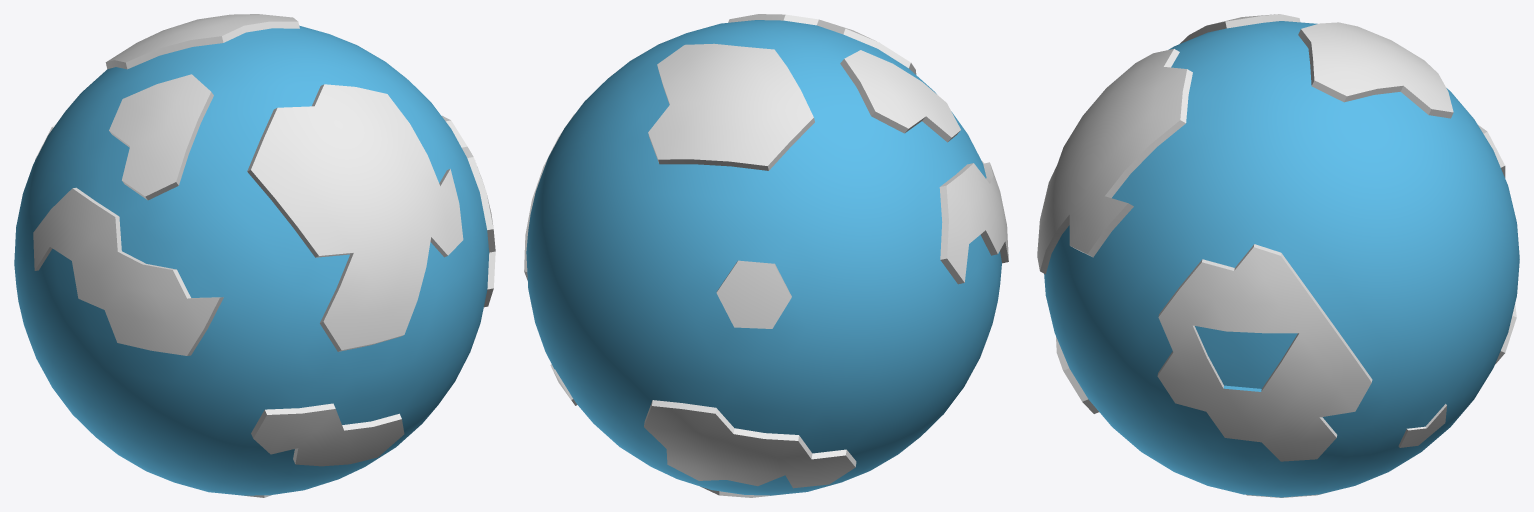
File: planet.fbx
3 views of the same model, side by side, from view 1: azimuth 30°, elevation 25°; view 2: azimuth 150°, elevation 25°; view 3: azimuth 270°, elevation 25° (orthographic).
Visible parts, largest first — view 1: Planet; view 2: Planet; view 3: Planet.
Part boxes in pixels (bbox=[...]): Planet: bbox=[14, 14, 495, 497]; Planet: bbox=[524, 14, 1008, 497]; Planet: bbox=[1037, 14, 1519, 497].
Size of the model in its own units: 204 by 205 by 202.
